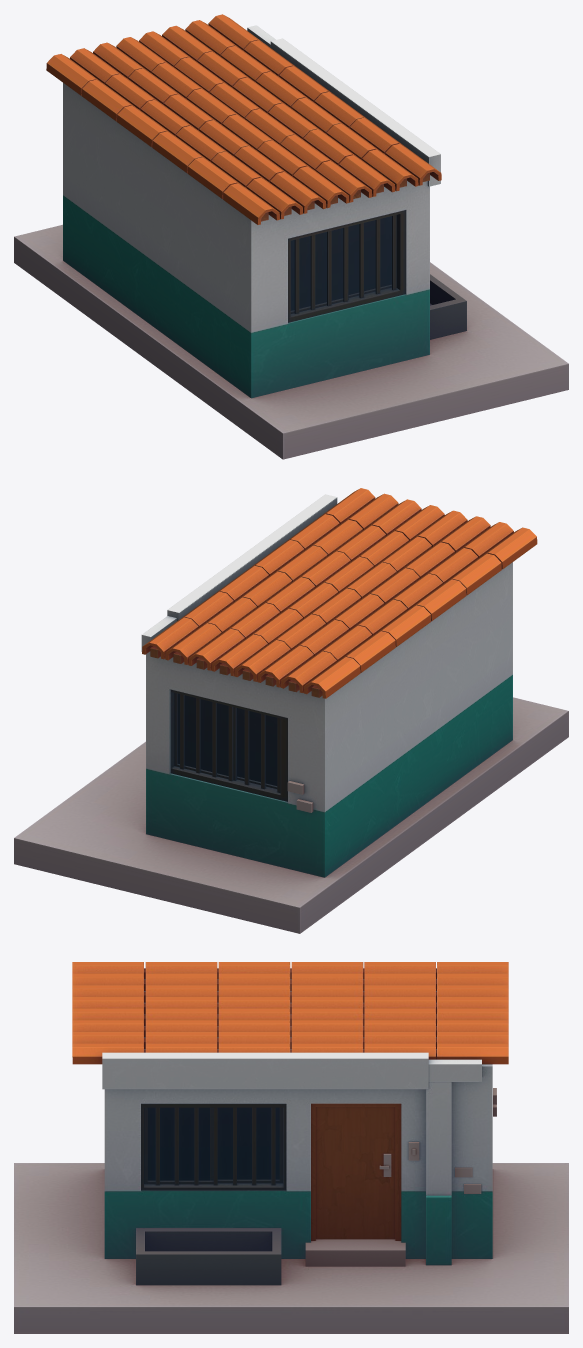
File: casa-estrato-2.glb
3 views of the same model, one above another, from view 1: azimuth 30°, elevation 25°; view 2: azimuth 150°, elevation 25°; view 3: azimuth 270°, elevation 25° (orthographic). The views are drawn at different scales.
Parts seen in each view (by area): view 1: Blanco 3, Tejas 1, Piso 3, Negro 3, Matera 3; view 2: Blanco 3, Tejas 1, Piso 3, Negro 3, Madera 3; view 3: Piso 3, Blanco 3, Tejas 1, Madera 3, Negro 3, Matera 3, Gris 3.
Part boxes in pixels (x1=…): Blanco 3: x1=63, y1=25, x2=440, y2=398; Tejas 1: x1=46, y1=14, x2=441, y2=224; Piso 3: x1=14, y1=224, x2=568, y2=459; Negro 3: x1=288, y1=210, x2=405, y2=322; Matera 3: x1=430, y1=274, x2=466, y2=339; Blanco 3: x1=141, y1=494, x2=512, y2=877; Tejas 1: x1=142, y1=488, x2=537, y2=698; Piso 3: x1=14, y1=697, x2=568, y2=933; Negro 3: x1=170, y1=689, x2=287, y2=801; Madera 3: x1=150, y1=646, x2=322, y2=697; Piso 3: x1=14, y1=1163, x2=568, y2=1333; Blanco 3: x1=102, y1=979, x2=492, y2=1265; Tejas 1: x1=72, y1=962, x2=508, y2=1064; Madera 3: x1=144, y1=968, x2=437, y2=1240; Negro 3: x1=141, y1=1103, x2=286, y2=1190; Matera 3: x1=136, y1=1228, x2=281, y2=1285; Gris 3: x1=305, y1=1088, x2=496, y2=1266.
Bounding box in the file's own units: 3.69 × 2.79 × 6.01.
7 materials, 7 textured.
